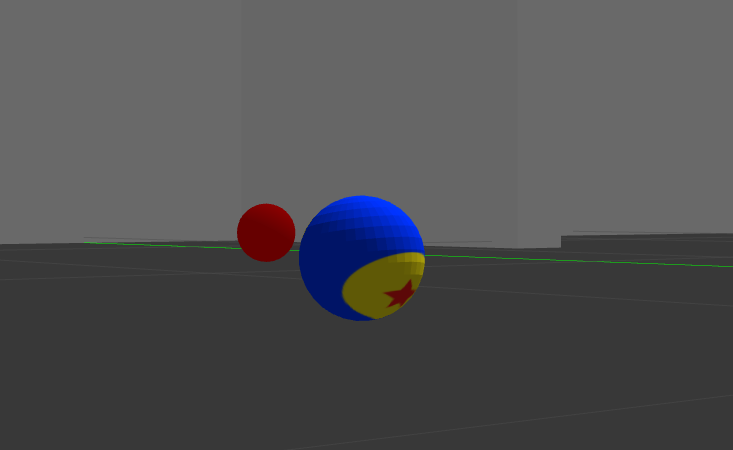toy_story_ball: (299, 192, 428, 321)
